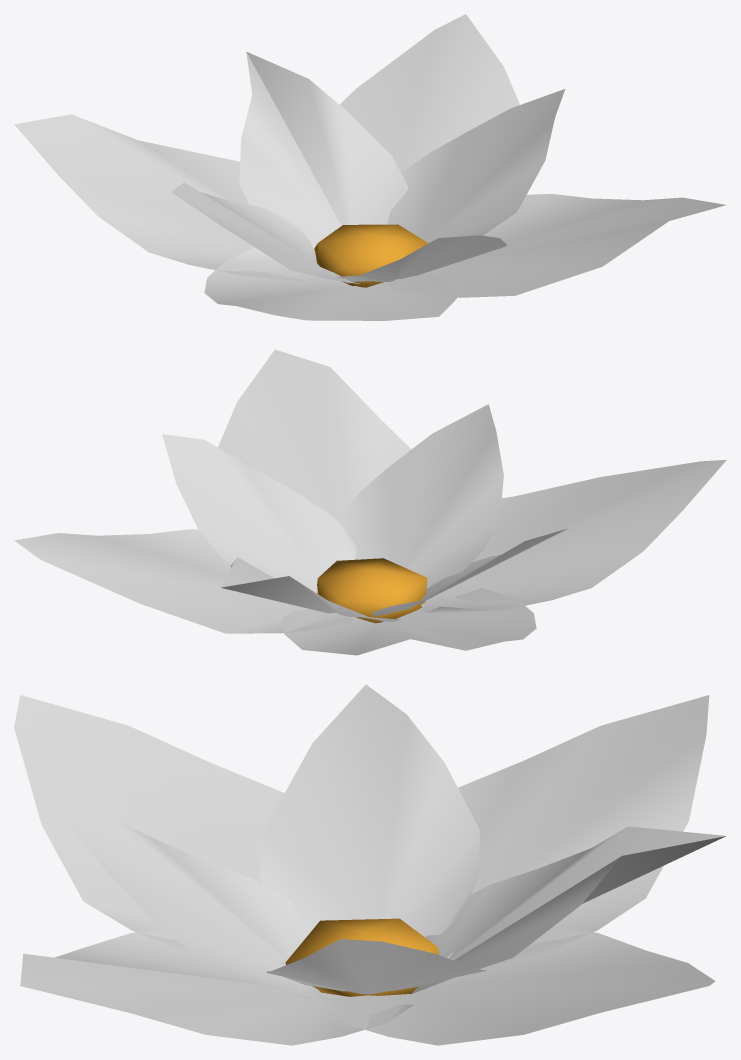
Rendered from flower_white.glb.
3 renders of one model, top to bottom at view 1: azimuth 30°, elevation 25°; view 2: azimuth 150°, elevation 25°; view 3: azimuth 270°, elevation 25°, orthographic. The views are drawn at different scales.
Visible parts, largest first — view 1: flower_white; view 2: flower_white; view 3: flower_white.
Part boxes in pixels (box(x1,y1,x2,y2)): flower_white: box(14, 14, 726, 320); flower_white: box(14, 349, 726, 655); flower_white: box(14, 684, 726, 1045).
Size of the model in its own units: 0.2055 by 0.0586 by 0.2127.
